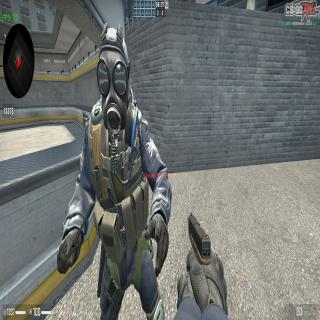CT-Body: (57, 24, 172, 320)
CT-Head: (96, 24, 133, 132)
